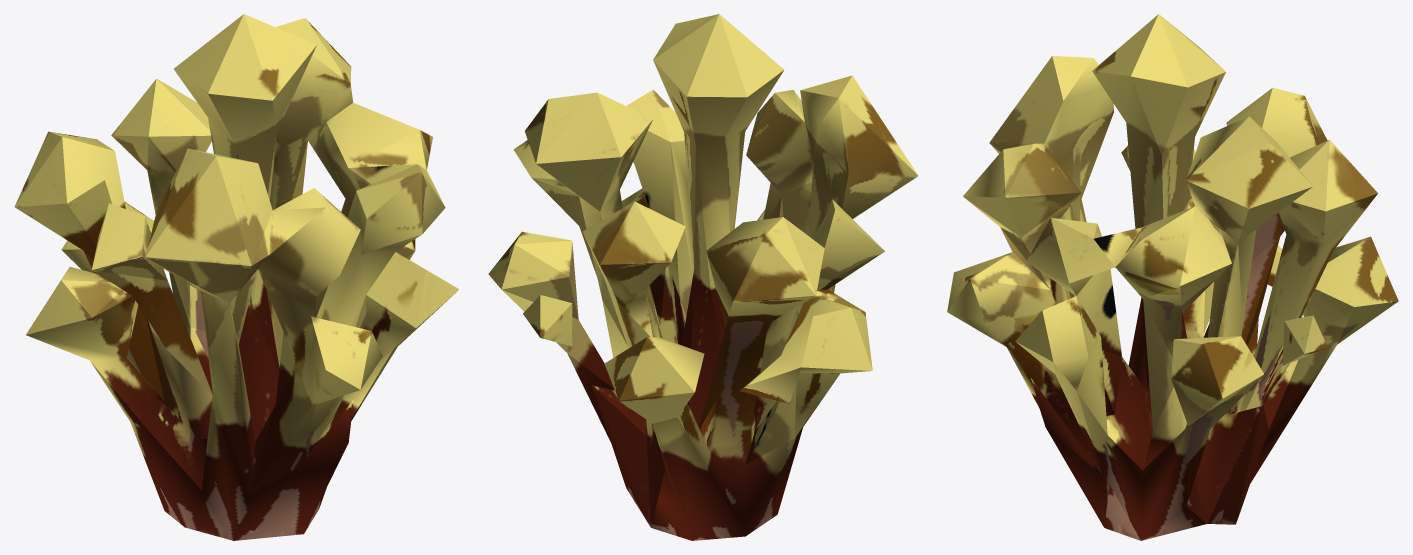
File: spore-cluster.glb
3 views of the same model, side by side, from view 1: azimuth 30°, elevation 25°; view 2: azimuth 150°, elevation 25°; view 3: azimuth 270°, elevation 25° (orthographic). The views are drawn at different scales.
Parts seen in each view (by area): view 1: geometry_0.001; view 2: geometry_0.001; view 3: geometry_0.001.
Part boxes in pixels (<box>): geometry_0.001: <box>14,14,458,540</box>; geometry_0.001: <box>488,14,918,540</box>; geometry_0.001: <box>947,14,1398,540</box>.
Size of the model in its own units: 0.8033 by 0.9967 by 0.8169.
1 material, 1 textured.
